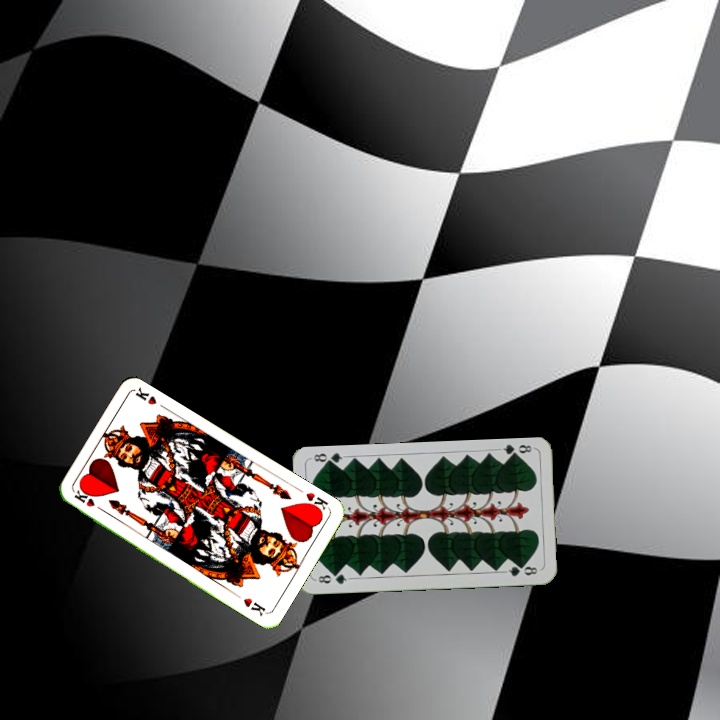G8: (495, 441, 536, 461), (312, 569, 353, 587)
HK: (70, 487, 108, 515), (300, 488, 331, 517)
